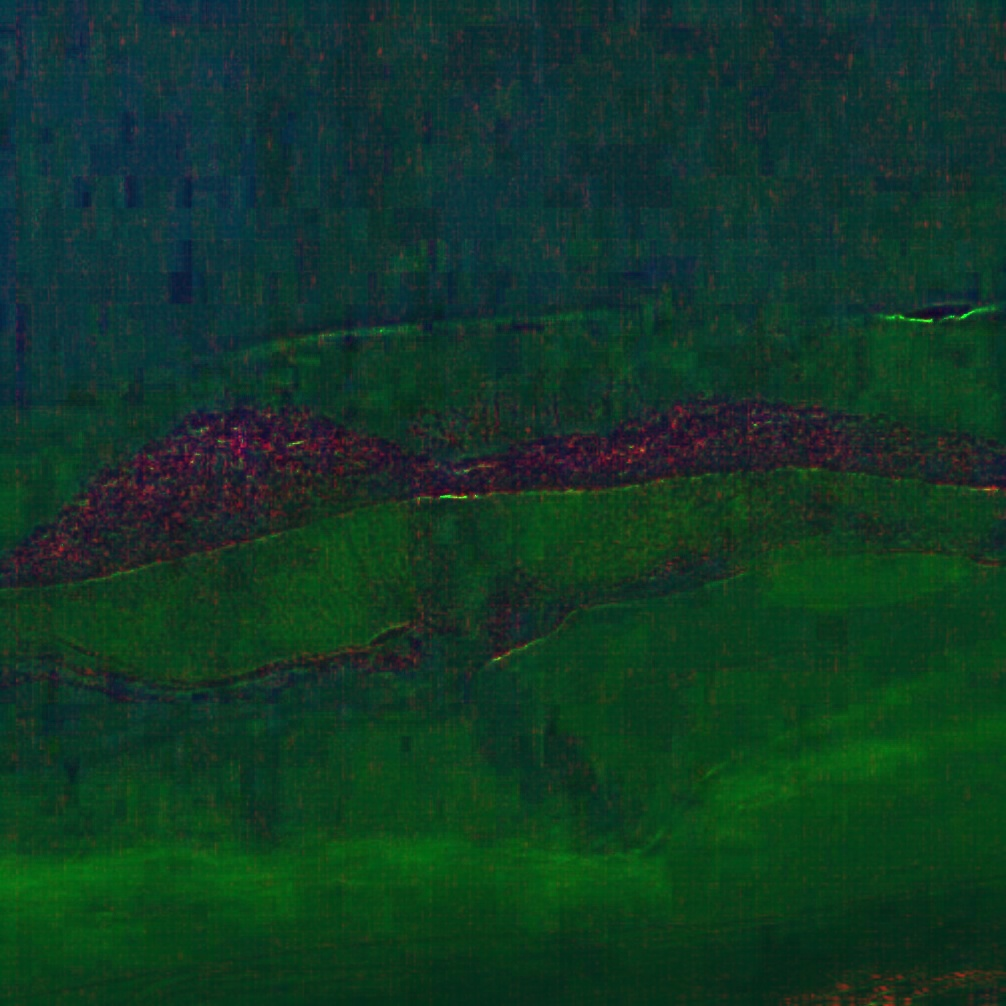rip_current: (368, 406, 539, 653)
